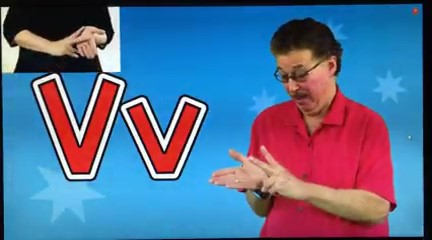V: (201, 143, 317, 207)
